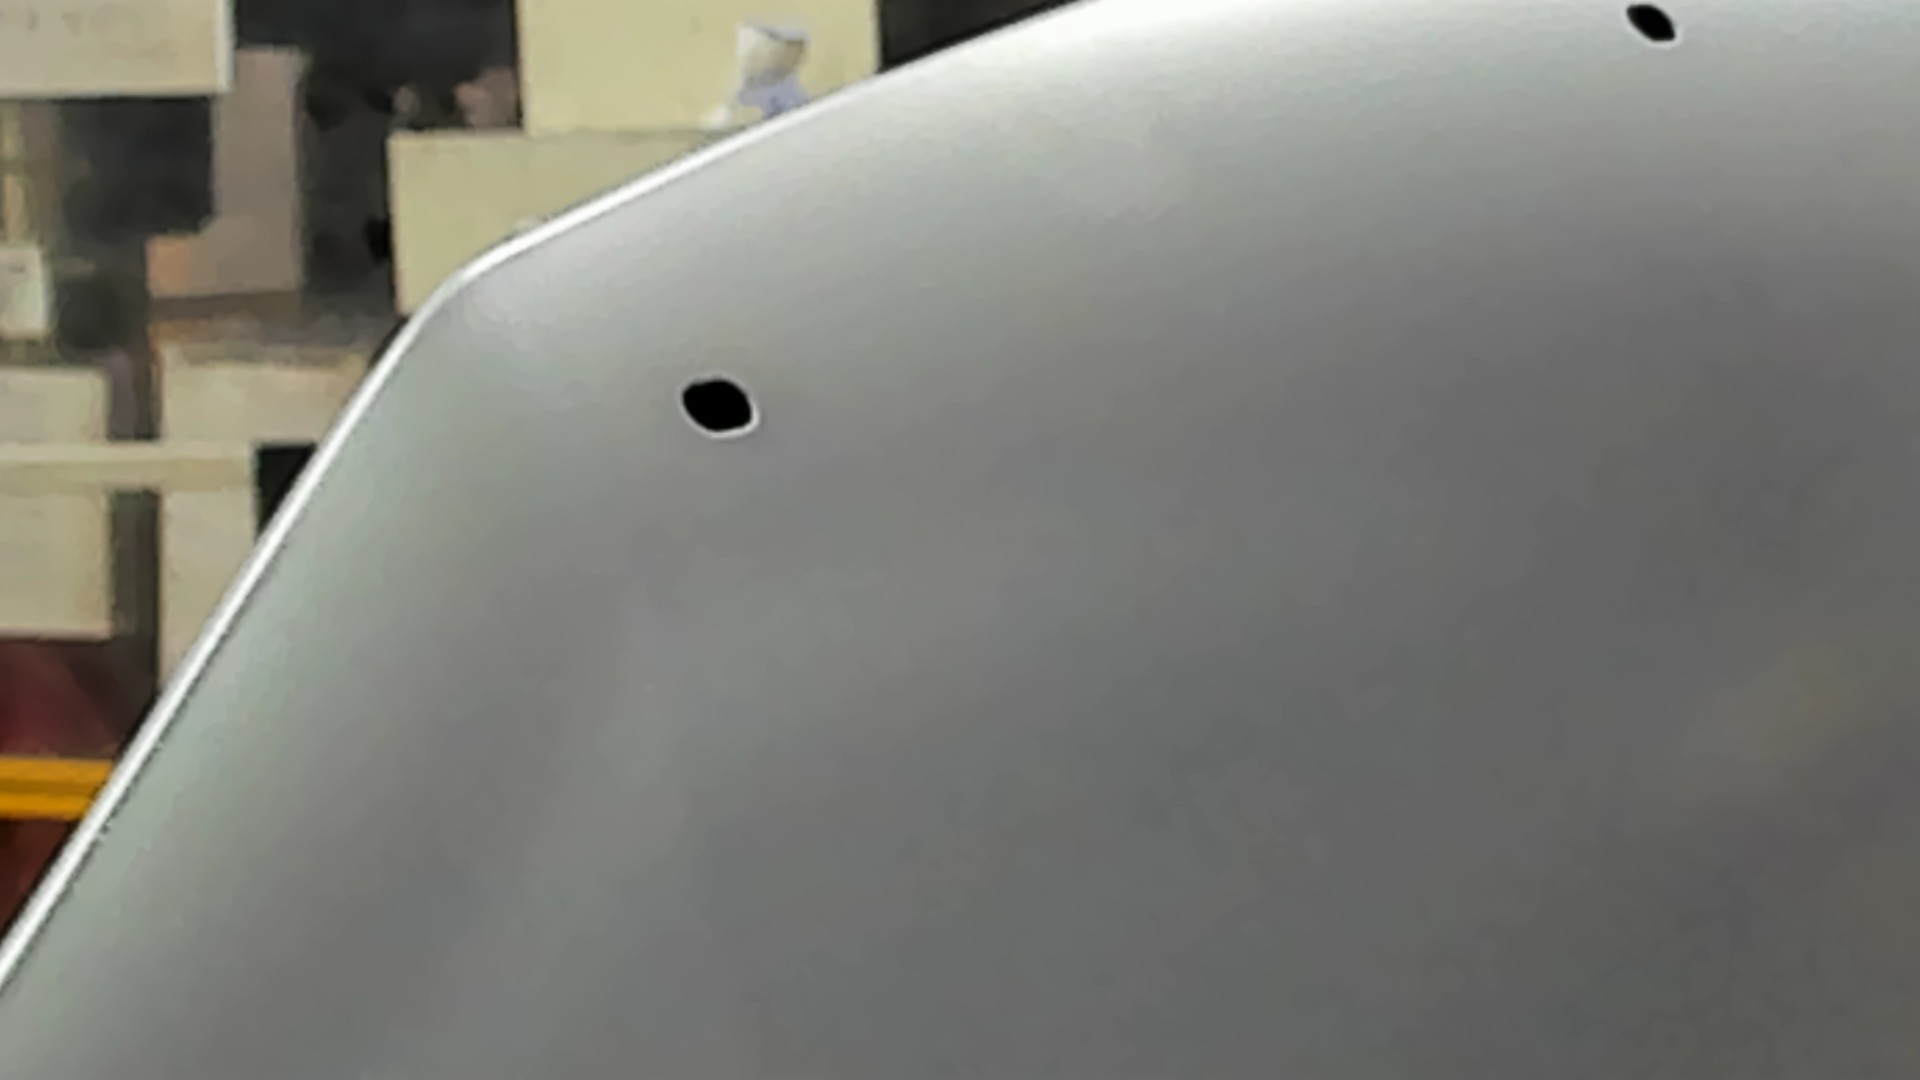amorfo: (674, 375, 765, 436), (1615, 1, 1684, 53)
